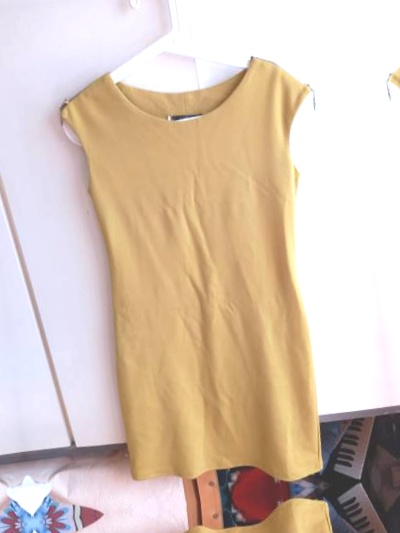Dress: (25, 27, 379, 496), (362, 0, 400, 452), (86, 500, 400, 533)
